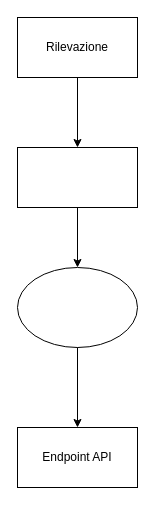
The diagram is 155 pixels wide and 505 high, and some of its shapes have lost their labels. Here are the shapes that lost their labels. From the top down, the centre of each, then its label:
(x=77, y=177): Invio Hub
(x=77, y=307): Protocollo Http
